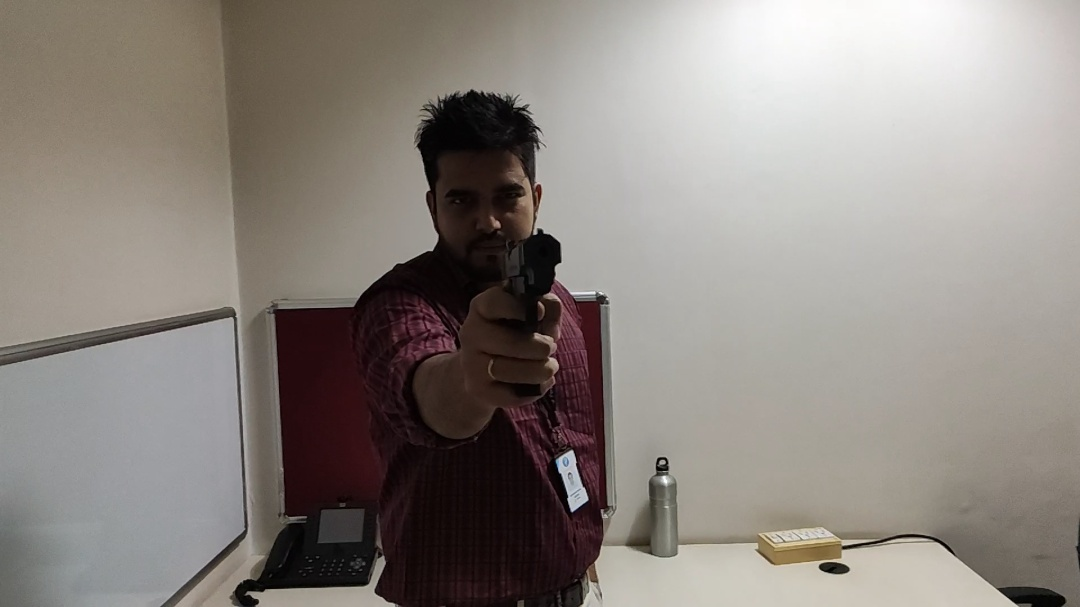gun: (493, 224, 569, 418)
